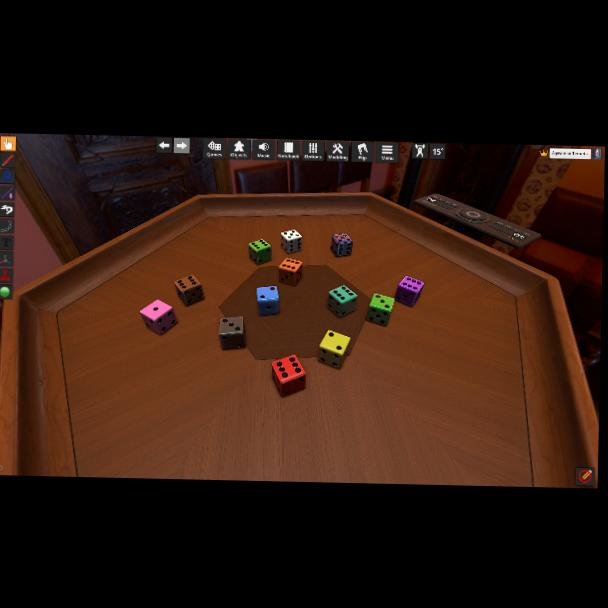d6: (270, 355, 306, 398), (140, 298, 178, 335), (317, 330, 349, 369), (327, 285, 356, 319), (218, 316, 244, 351), (174, 275, 203, 306), (393, 276, 420, 308), (366, 293, 392, 326), (255, 287, 280, 317), (279, 257, 303, 286), (248, 239, 271, 267), (280, 230, 302, 255), (331, 233, 352, 258)
